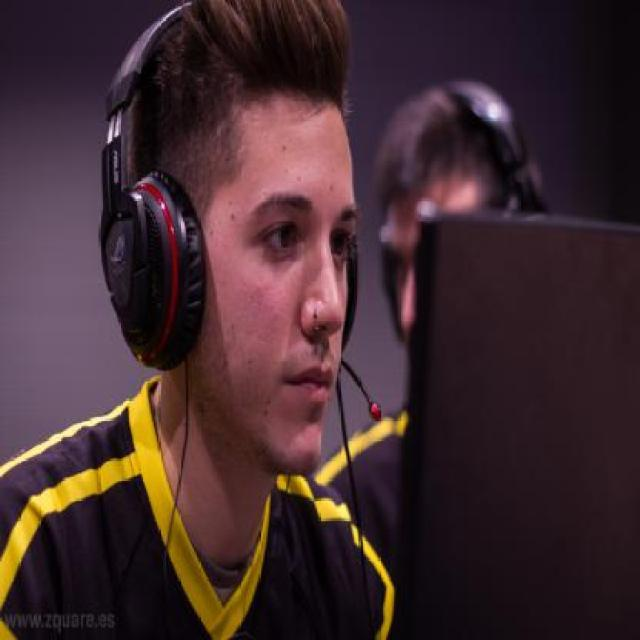earphone: (82, 10, 240, 378)
